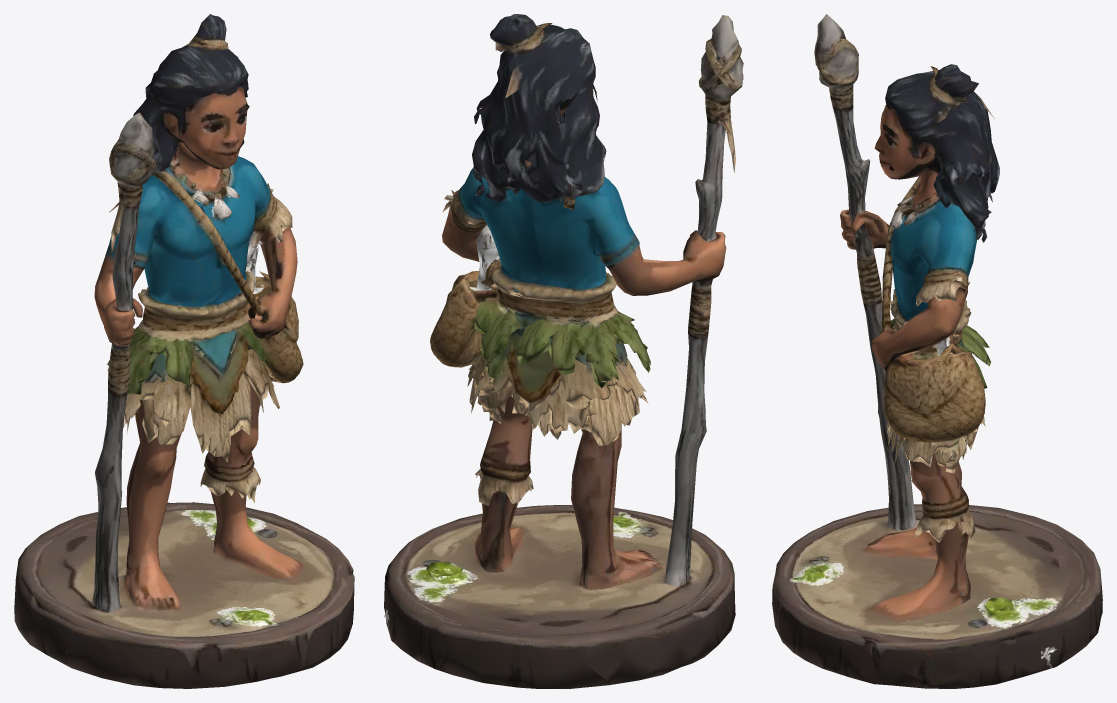
Rendered from sw-friday.glb.
The picture shows the model from 3 angles, left to right: view 1: azimuth 30°, elevation 25°; view 2: azimuth 150°, elevation 25°; view 3: azimuth 270°, elevation 25°; orthographic projection. The views are drawn at different scales.
Visible parts, largest first — view 1: geometry_0; view 2: geometry_0; view 3: geometry_0.
Boxes of the visible parts, bbox=[...] form: geometry_0: bbox=[14, 14, 354, 688]; geometry_0: bbox=[383, 14, 743, 688]; geometry_0: bbox=[772, 14, 1102, 688].
Size of the model in its own units: 0.4407 by 0.845 by 0.4422.
Materials: 1 (1 with a texture image).
